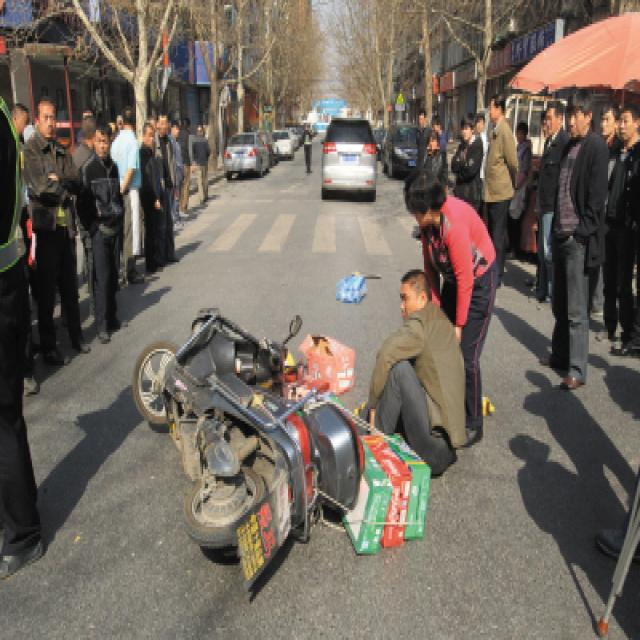10-: (0, 58, 637, 551)
down: (334, 260, 493, 481)
